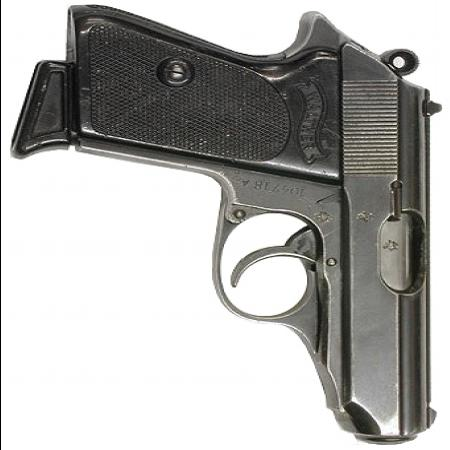Pistol: (10, 3, 436, 445)
